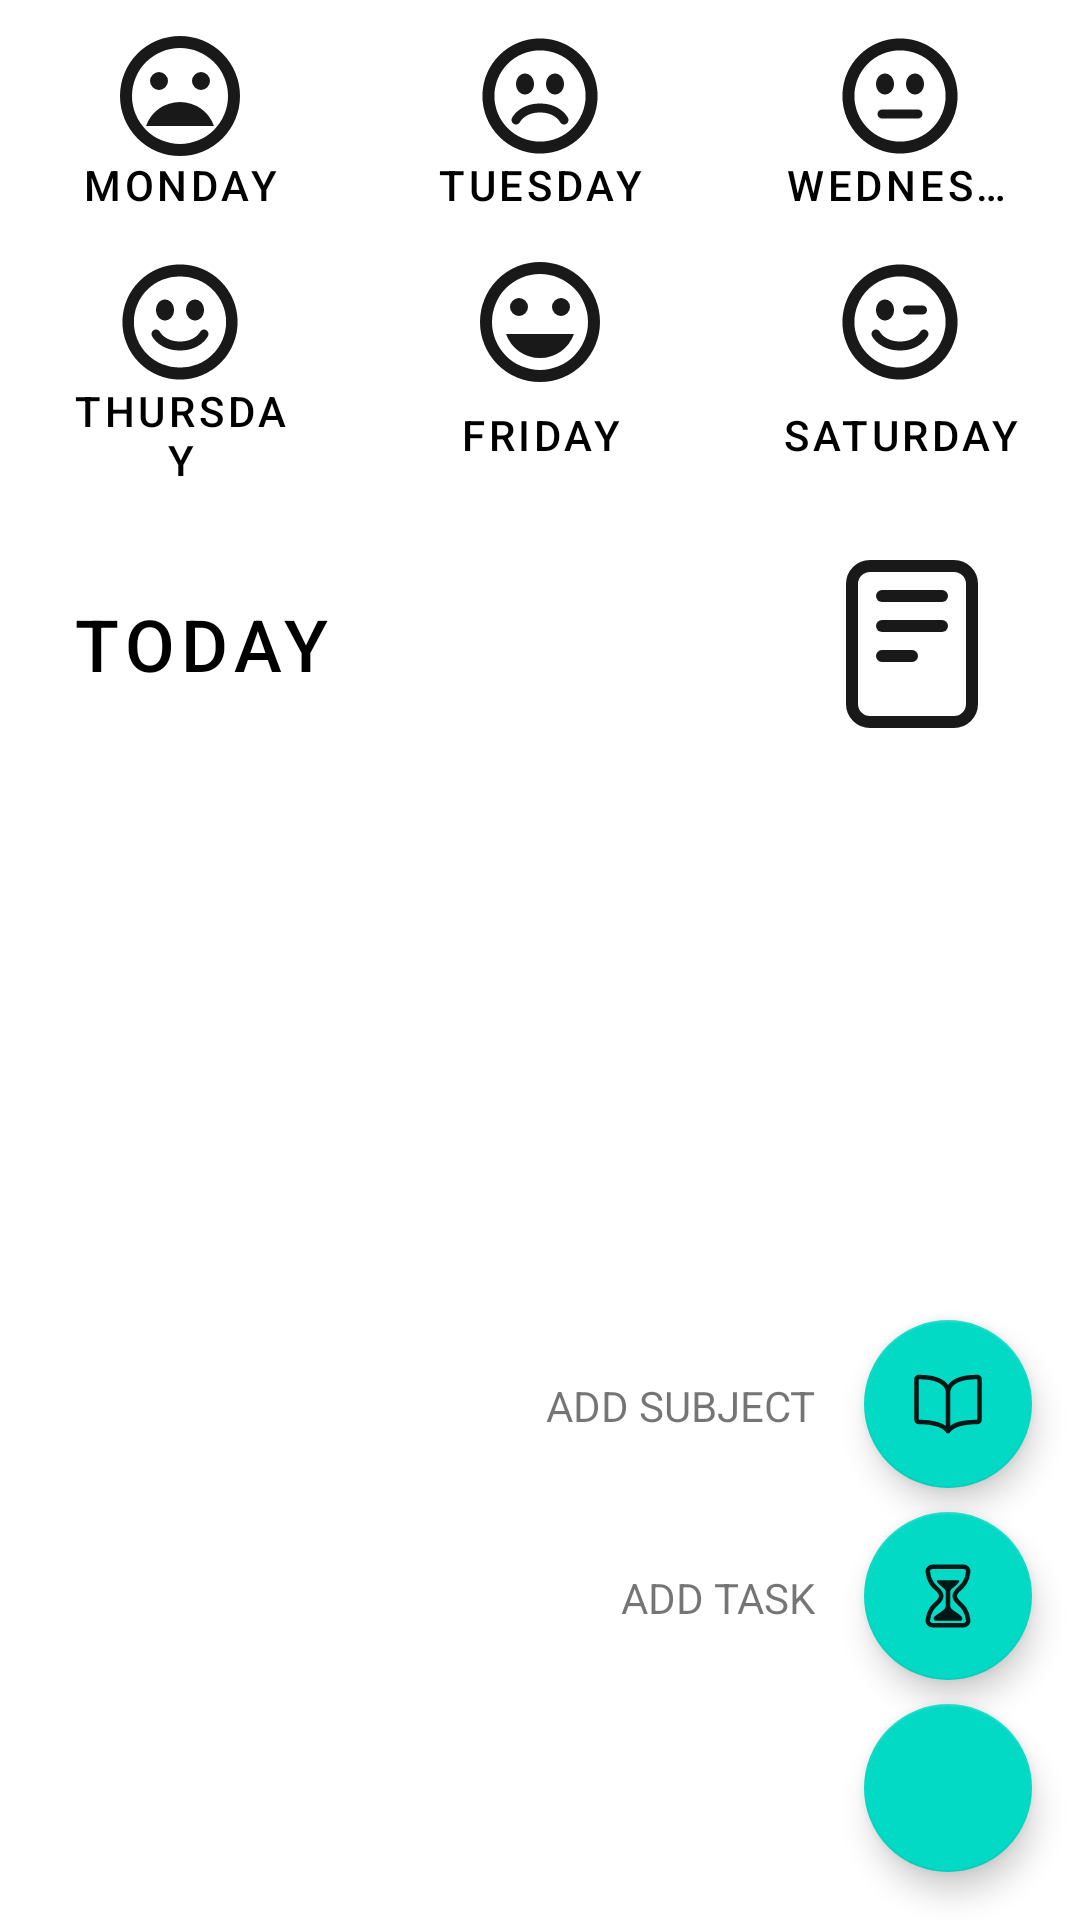

Locate icon controls on the screen. Image size 1080 x 1920, boxes as (x1, y1, x2, y2).
book: (864, 1320, 1032, 1488)
hourglass: (864, 1512, 1032, 1680)
